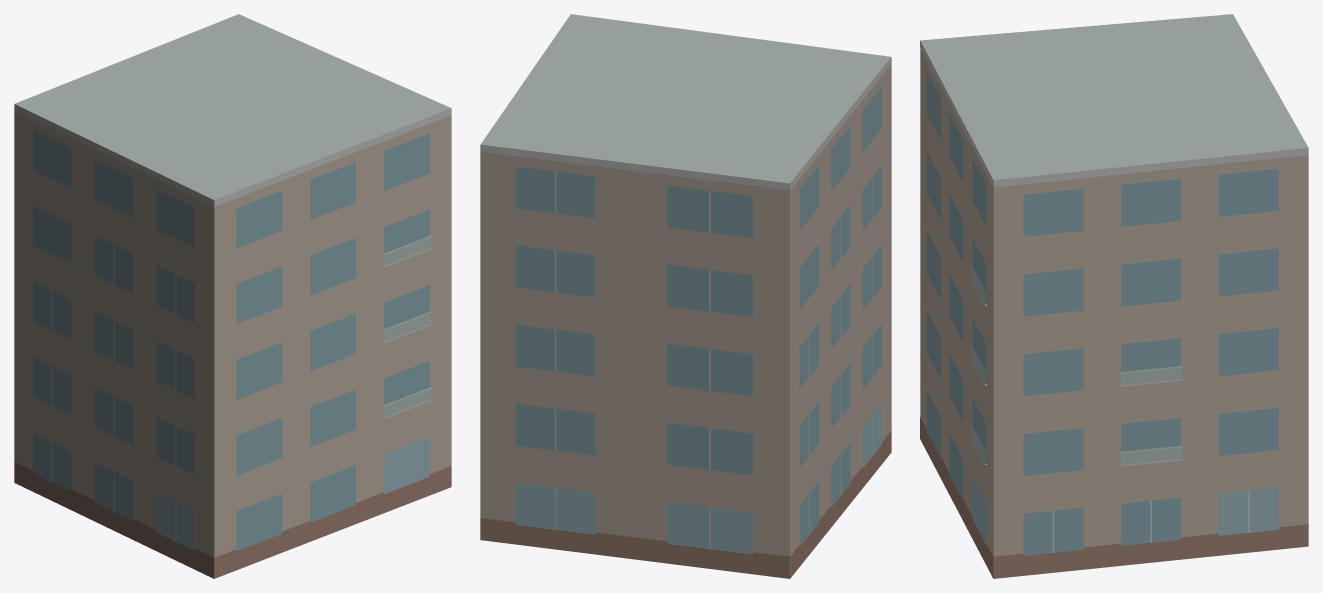
The model's file is survey-upis-32747595.glb.
3 renders of one model, left to right at view 1: azimuth 30°, elevation 25°; view 2: azimuth 150°, elevation 25°; view 3: azimuth 270°, elevation 25°, orthographic. The views are drawn at different scales.
Parts seen in each view (by area): view 1: survey-upis-32747595.tmp; view 2: survey-upis-32747595.tmp; view 3: survey-upis-32747595.tmp.
Boxes of the visible parts, bbox=[...] form: survey-upis-32747595.tmp: bbox=[14, 14, 451, 578]; survey-upis-32747595.tmp: bbox=[480, 14, 891, 578]; survey-upis-32747595.tmp: bbox=[920, 14, 1308, 578].
Size of the model in its own units: 12.08 by 13.5 by 11.93.
